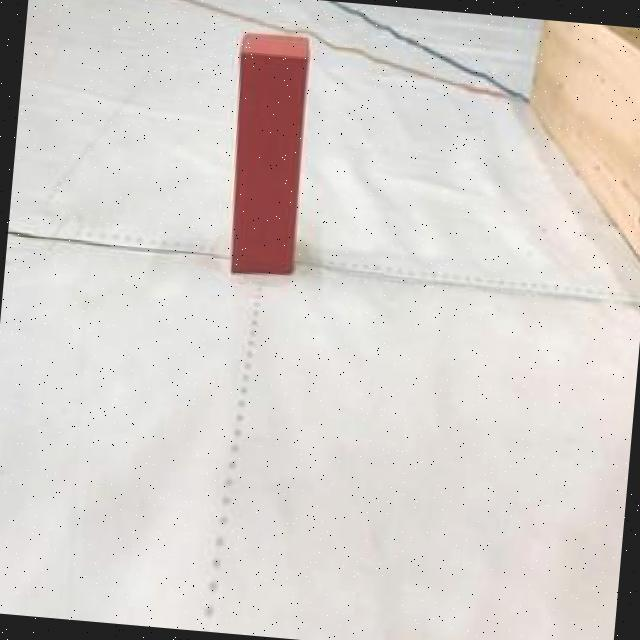redbox: (219, 28, 313, 280)
